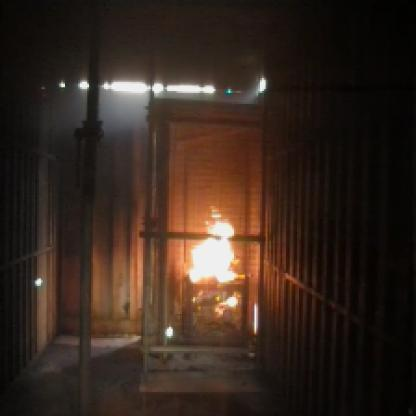Fire: (171, 206, 252, 320)
